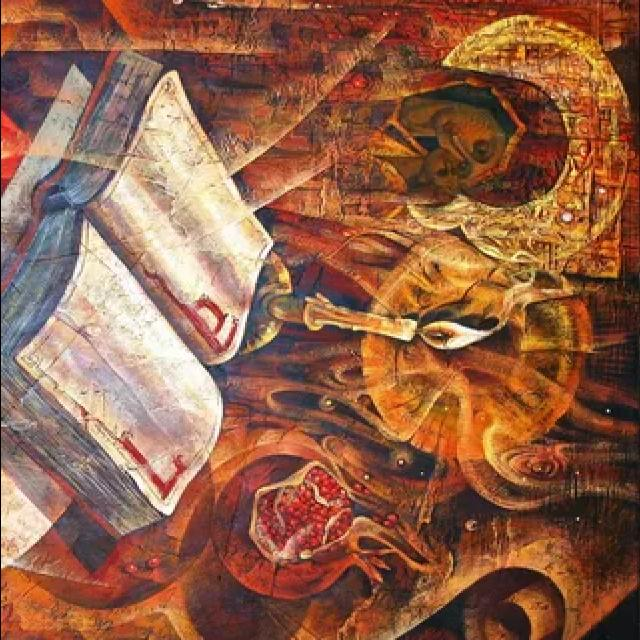book: (0, 43, 298, 549)
